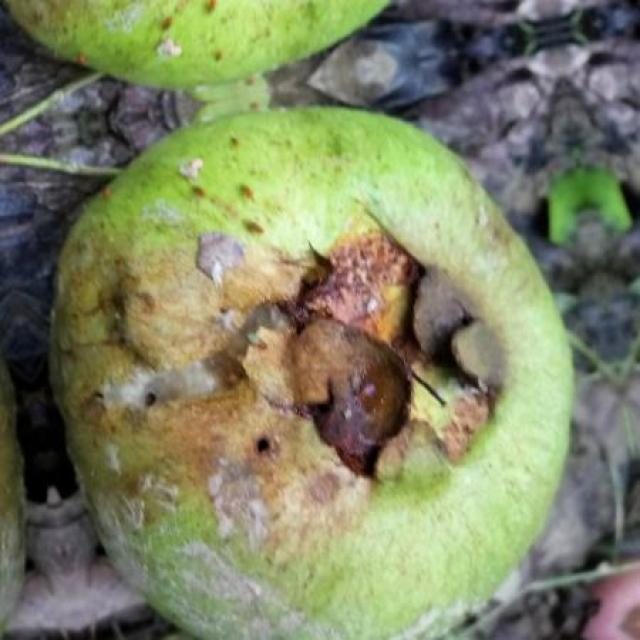Styler and Root: (52, 108, 572, 640), (6, 1, 386, 88)
